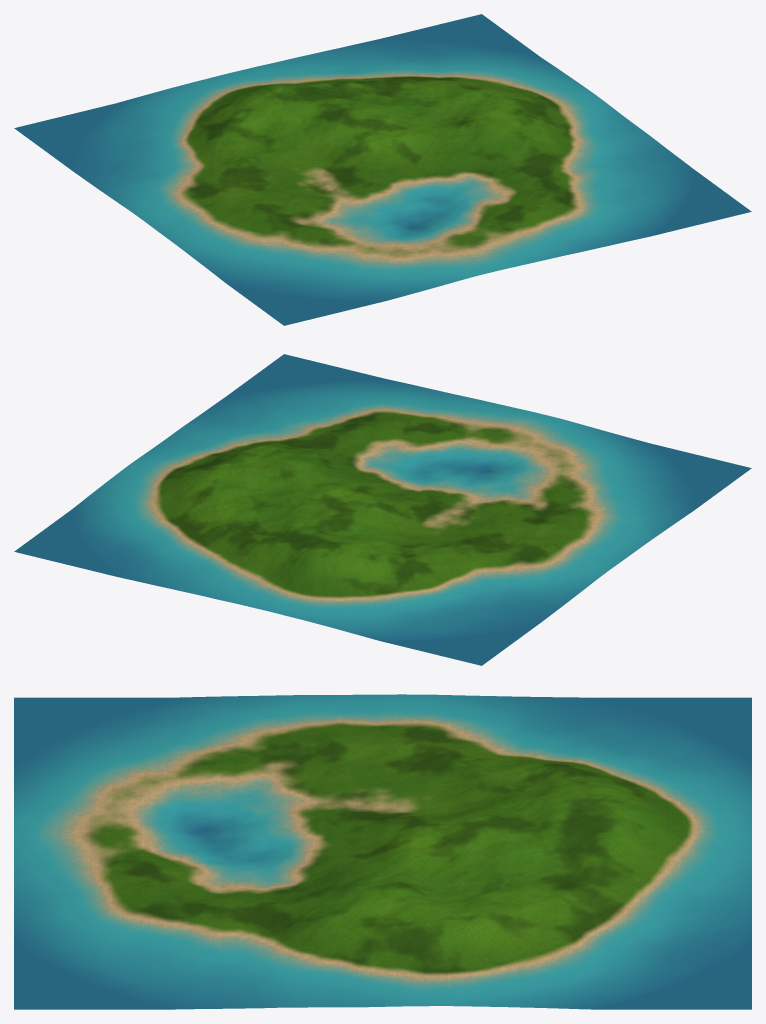
Rendered from map.glb.
3 renders of one model, top to bottom at view 1: azimuth 30°, elevation 25°; view 2: azimuth 150°, elevation 25°; view 3: azimuth 270°, elevation 25°, orthographic. The views are drawn at different scales.
Visible parts, largest first — view 1: Island; view 2: Island; view 3: Island.
Part boxes in pixels (x1,y1,x2,y2): Island: (14,14,751,325); Island: (14,354,751,665); Island: (14,694,751,1009).
Size of what is drawn, in the model's own units: 2400 by 128 by 2400.
1 material, 1 textured.
